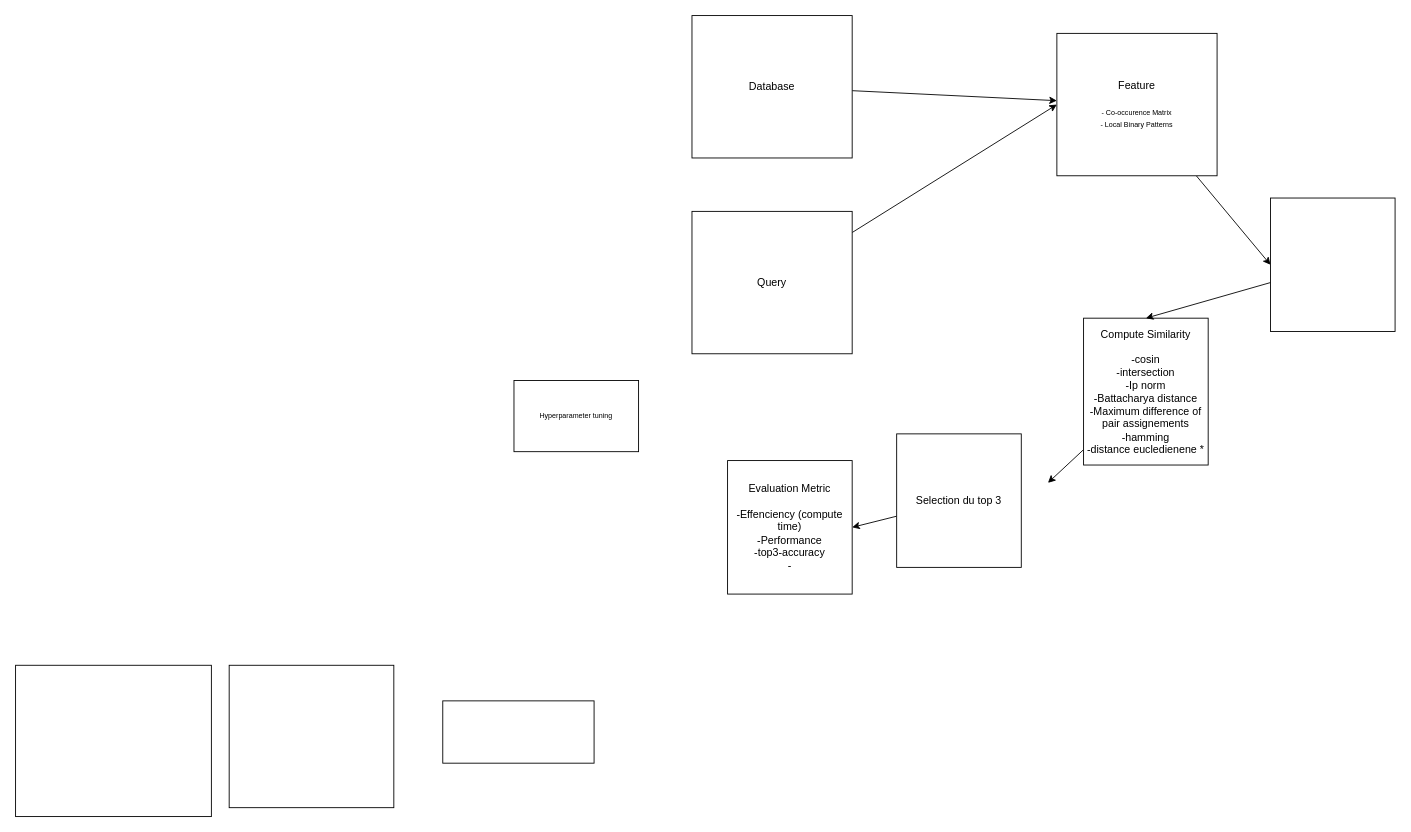
The diagram is 1411 pixels wide and 832 high, and some of its shapes have lost their labels. Each missing label, with the centre of its shape:
Co-oc Matrix -Channel -levels -distance et angle: the point at 311,736
Combinaison lineaire des descriptor: the point at 518,731
Descriptor -Histogram -HeatMap: the point at 1332,264
LBP -radius -P (nb de points autour du cercle) -method: the point at 113,740
